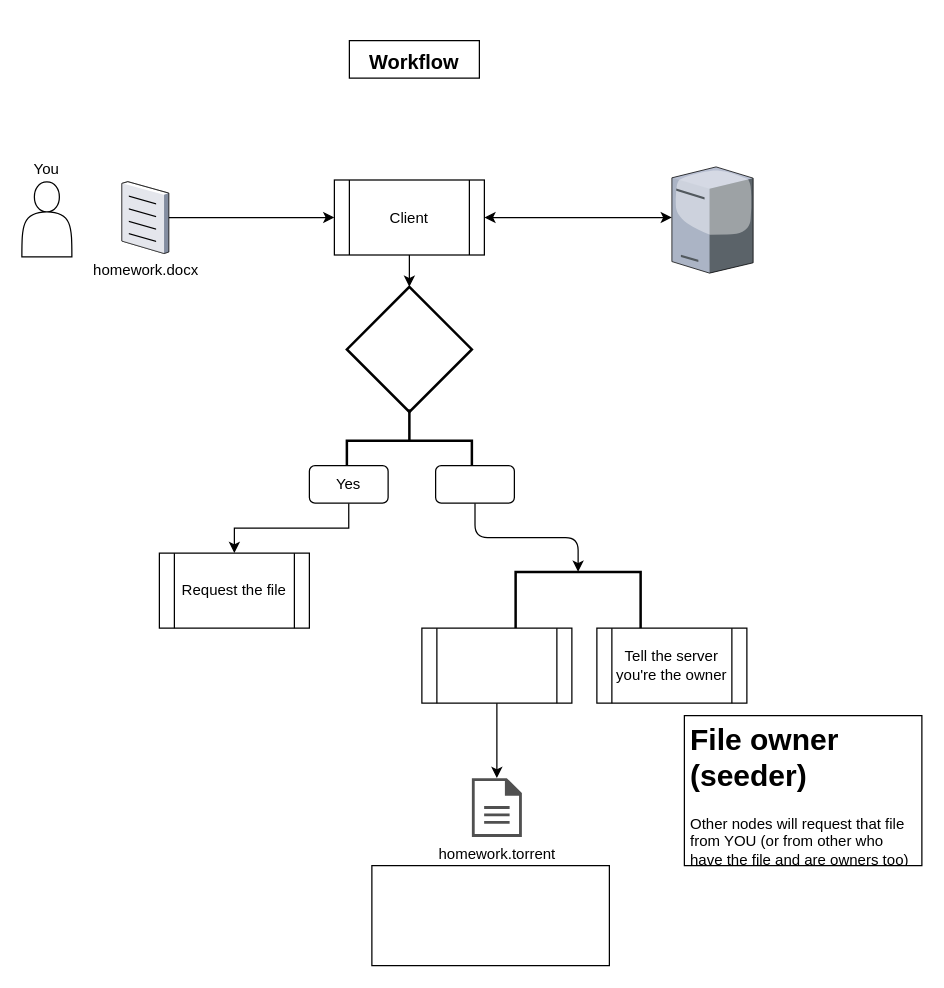
The diagram is 944 pixels wide and 988 high, and some of its shapes have lost their labels. The shapes that lost their labels are listed below. From the top down, each one's box as (x1, y1, x2, y2) in pixels, then its label:
(345, 285, 472, 412): Is a torrent?
(434, 464, 514, 503): No
(421, 627, 572, 703): Create the torrent file
(371, 864, 609, 966): Torrent That is the file that'll be shared to the people who wants the file.
